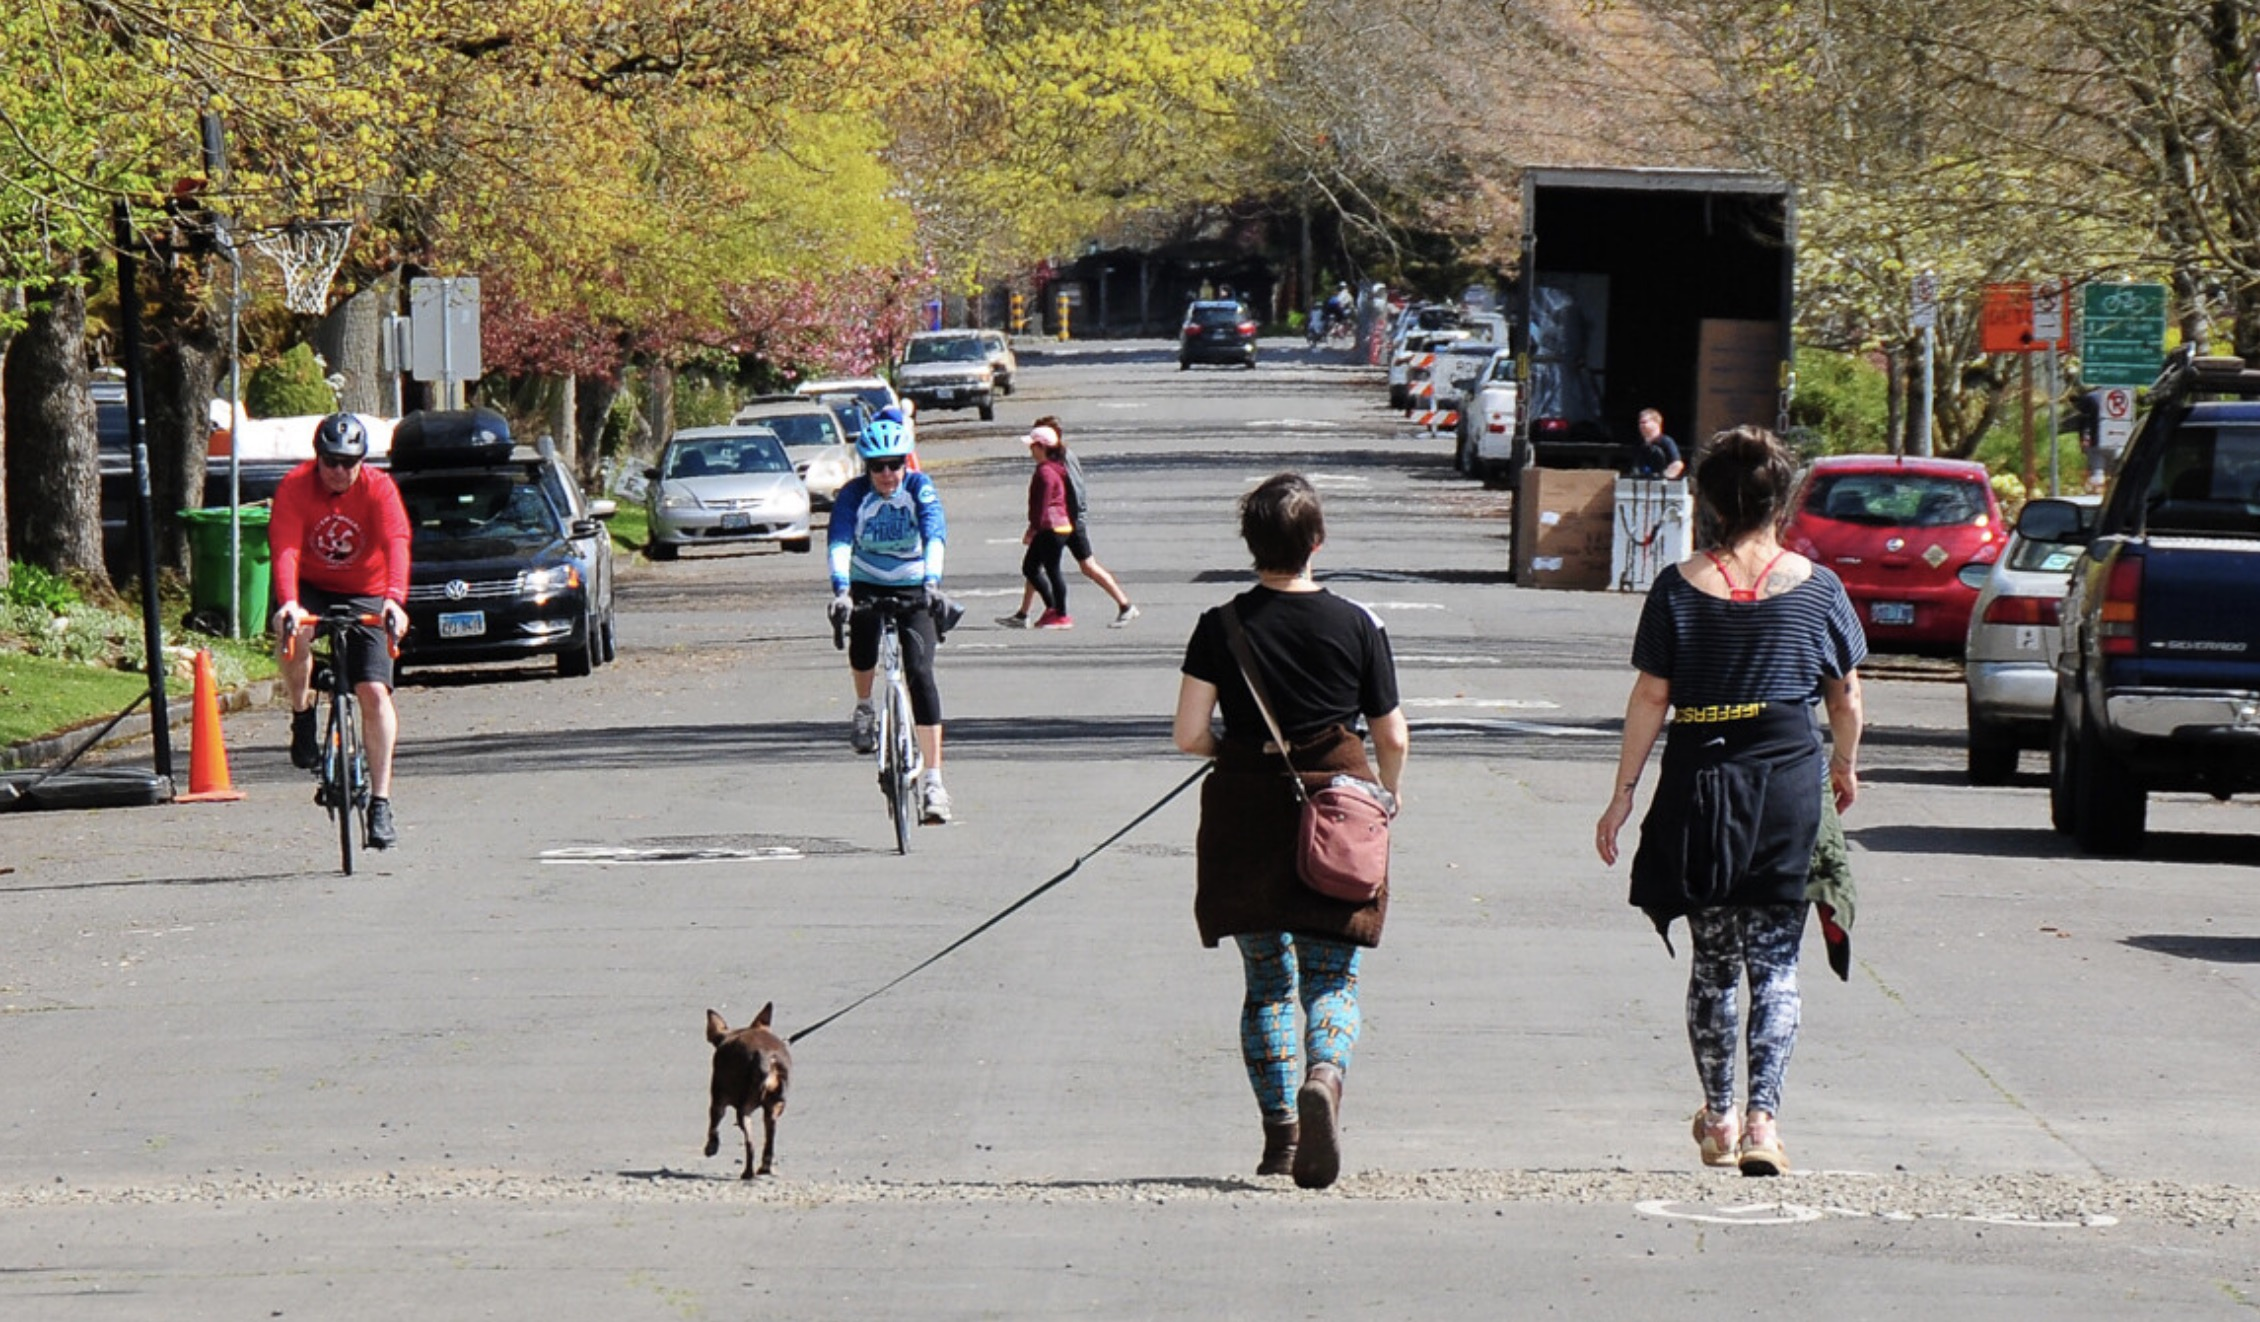car: (1485, 157, 1811, 504), (2016, 392, 2260, 851), (383, 439, 631, 695), (1785, 443, 2013, 650), (625, 417, 829, 564), (885, 328, 1031, 415), (1167, 294, 1265, 372)
dog: (674, 990, 840, 1190)
person: (1567, 415, 1883, 1194), (1151, 463, 1425, 1204), (256, 401, 458, 874), (800, 406, 991, 863), (1000, 432, 1105, 628)
